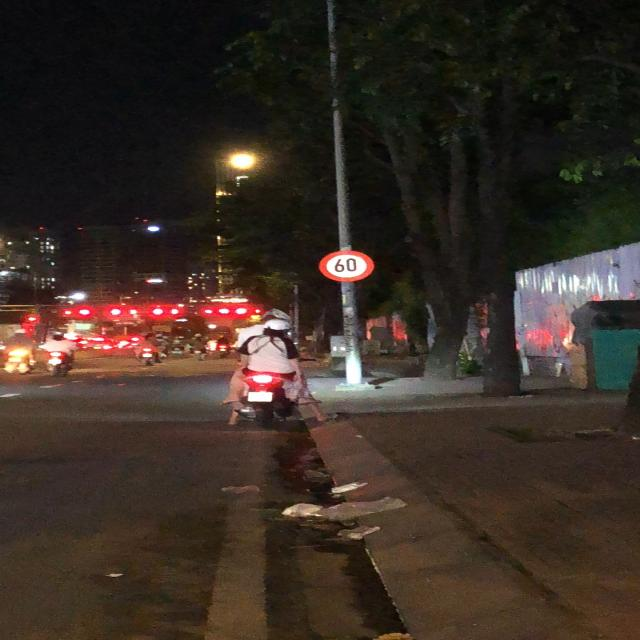Bien bao toc do toi da cho phep: (316, 246, 378, 284)
